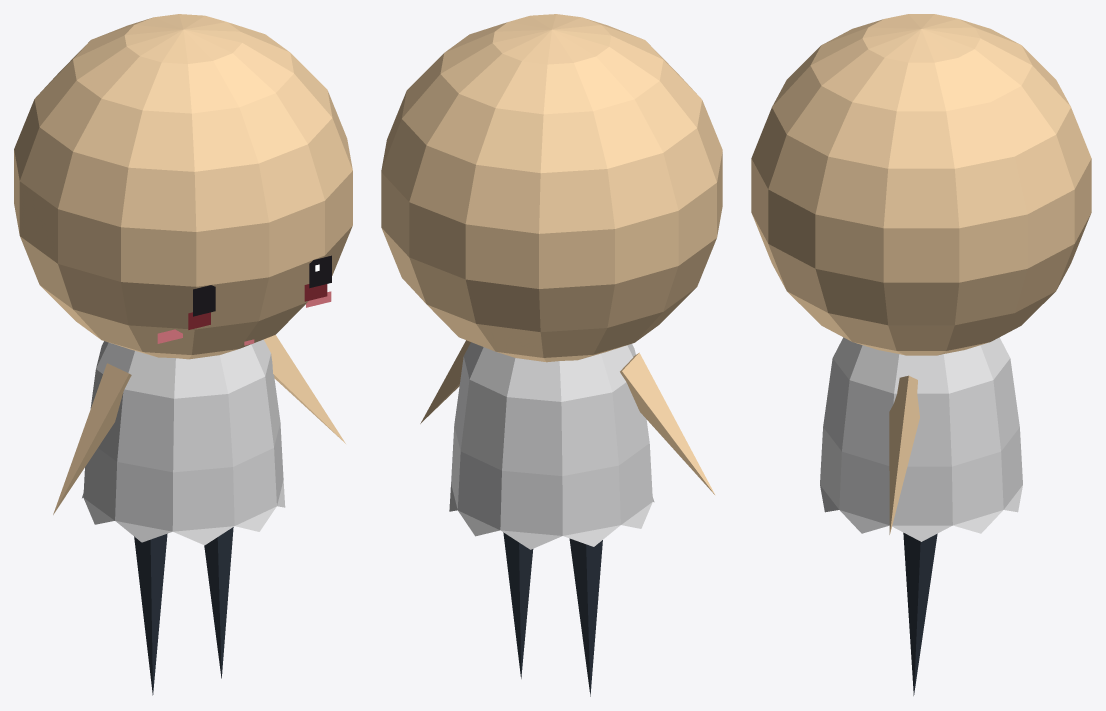
File: body_short.glb
3 views of the same model, side by side, from view 1: azimuth 30°, elevation 25°; view 2: azimuth 150°, elevation 25°; view 3: azimuth 270°, elevation 25° (orthographic).
Visible parts, largest first — view 1: skin, cloth, armL, legL, legR, armR, eye, eyec; view 2: skin, cloth, armL, legL, legR, armR; view 3: skin, cloth, armR, legR.
Part boxes in pixels (x1,y1,x2,y2): skin: [14, 14, 352, 359]; cloth: [82, 339, 285, 545]; armL: [53, 363, 131, 514]; legL: [134, 533, 167, 695]; legR: [204, 527, 233, 678]; armR: [264, 335, 345, 443]; eye: [193, 255, 331, 316]; eyec: [188, 284, 327, 329]; skin: [381, 14, 722, 362]; cloth: [449, 342, 654, 549]; armL: [620, 352, 715, 495]; legL: [569, 538, 602, 696]; legR: [503, 532, 533, 678]; armR: [420, 340, 470, 423]; skin: [751, 14, 1091, 355]; cloth: [820, 337, 1022, 541]; armR: [889, 375, 919, 534]; legR: [903, 532, 937, 695].
Bounding box in the file's own units: 0.53 × 1.13 × 0.5357.
